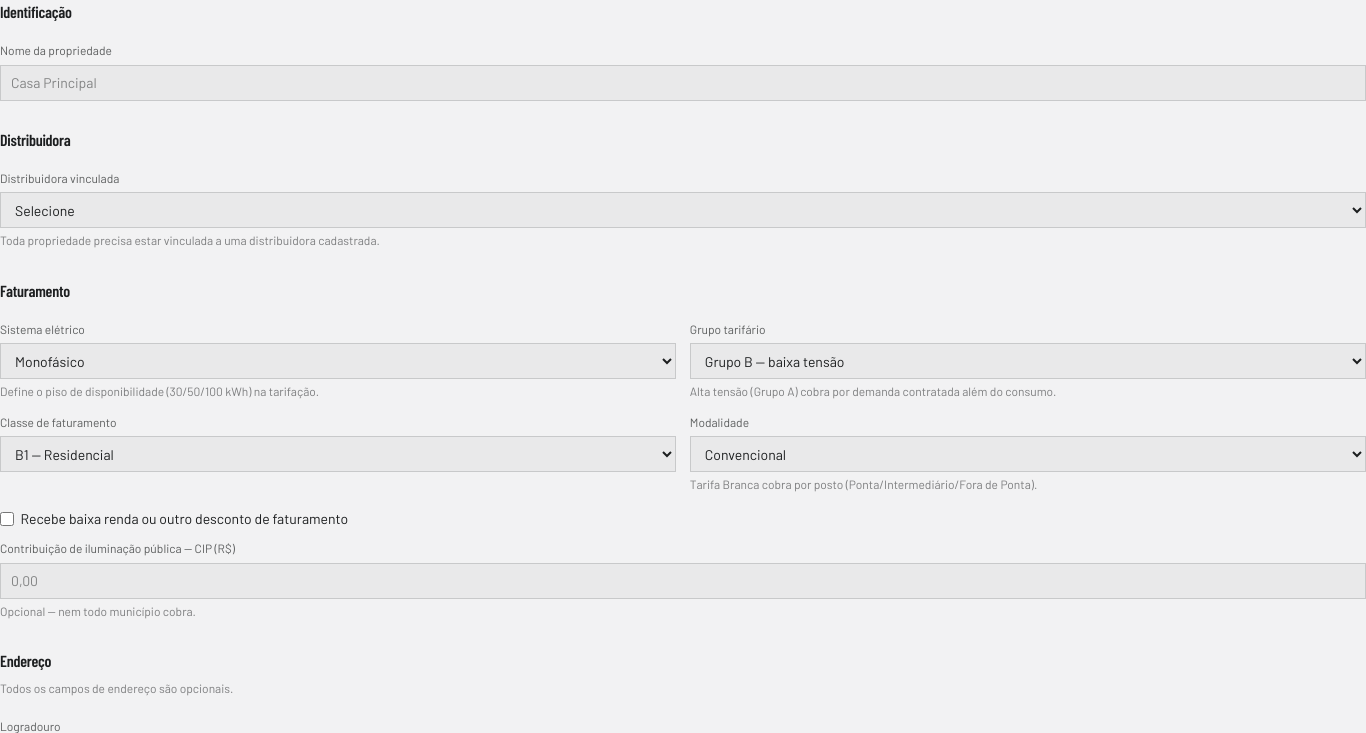
Scenario: PropertyForm — Grupo A › mostra as demandas de ponta e fora de ponta e esconde o campo único ao selecionar Azul
Select "Grupo A — alta tensão" in the dropdown labelled "Grupo tarifário" at (1028, 361), box [690,343,1365,379]
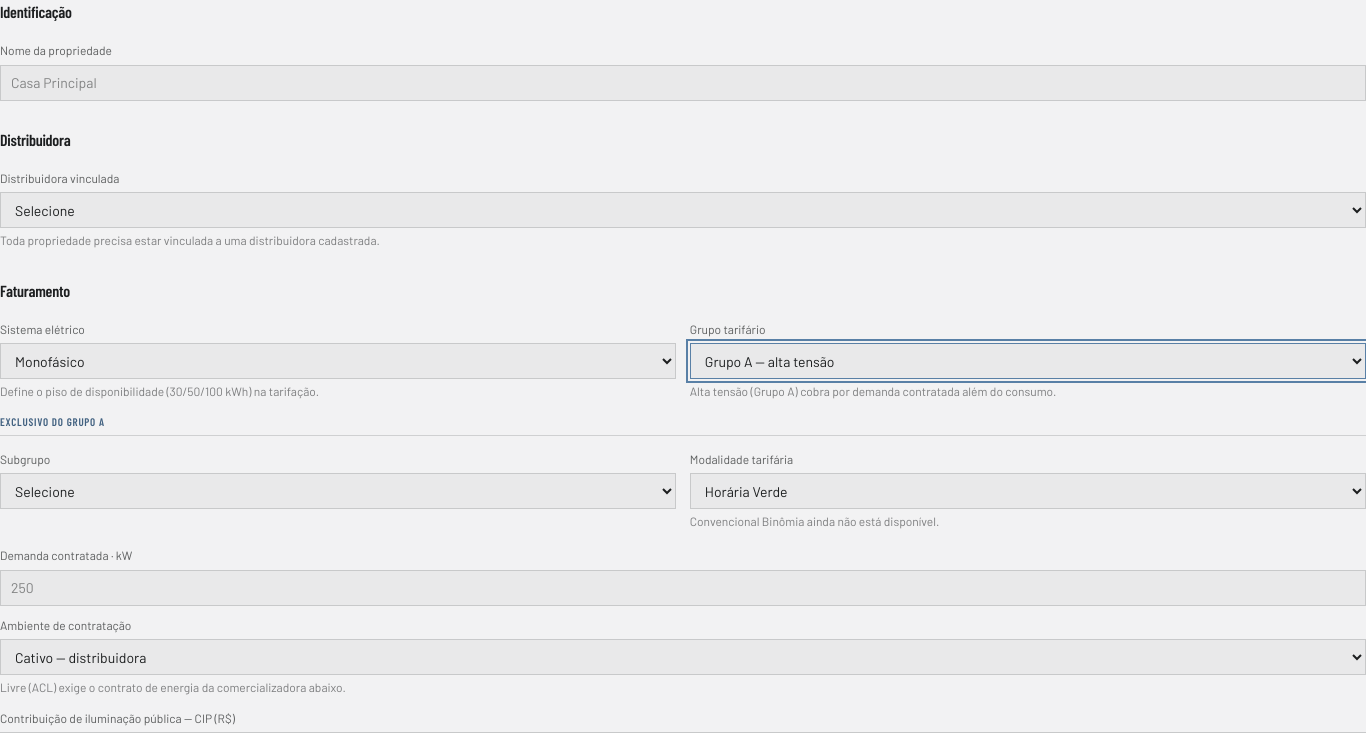
Expected: the number field labelled "Demanda contratada · kW" is shown, [0,570,1365,606]
Select "Horária Azul" in the dropdown labelled "Modalidade tarifária" at (1028, 491), box [690,473,1365,509]
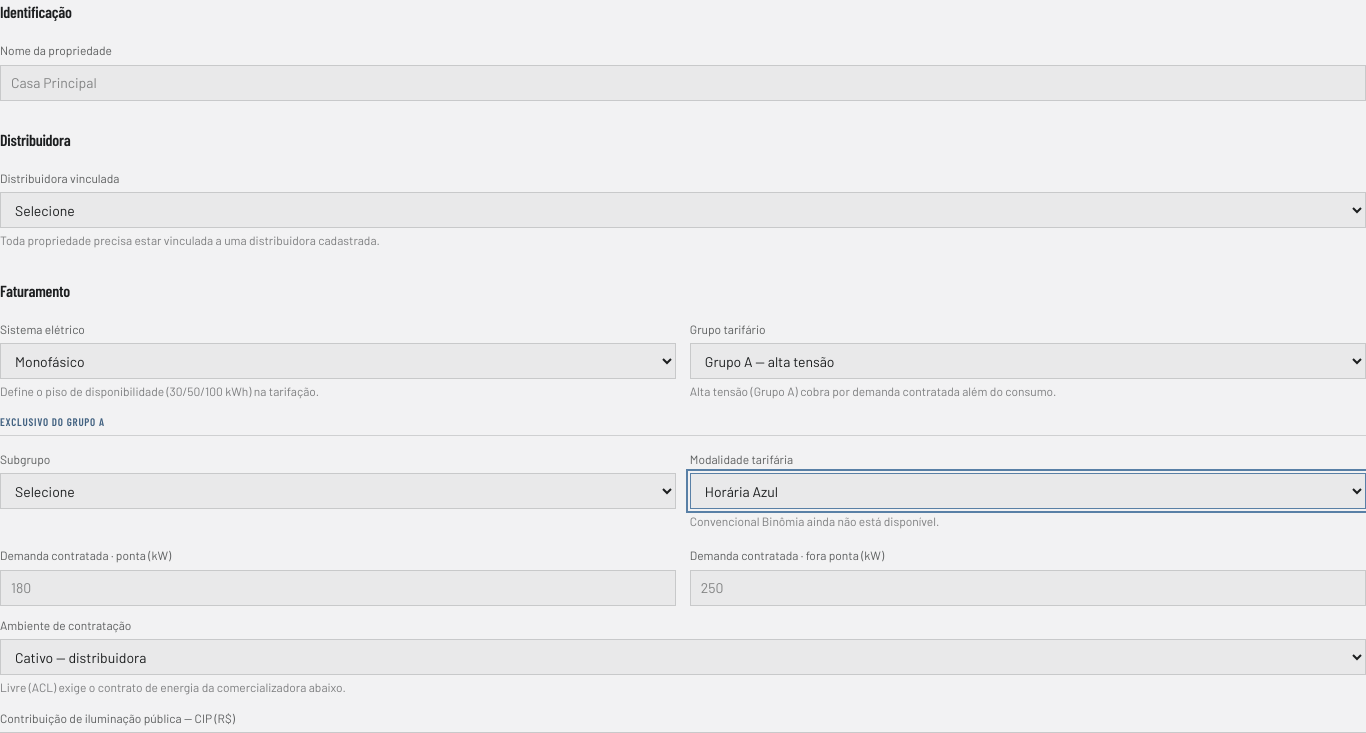
Expected: the label labelled "Demanda contratada · kW" is gone
Expected: the number field labelled "Demanda contratada · ponta (kW)" is shown, [0,570,676,606]
Expected: the number field labelled "Demanda contratada · fora ponta (kW)" is shown, [690,570,1365,606]
